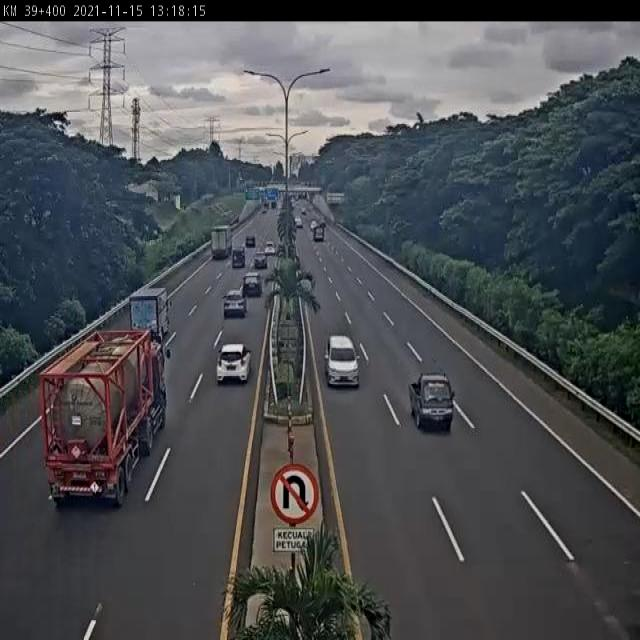Car: (408, 372, 454, 430), (324, 334, 361, 388), (216, 342, 252, 385), (223, 290, 247, 318), (243, 272, 262, 296), (268, 278, 282, 302), (312, 222, 326, 242), (254, 252, 268, 269), (277, 197, 286, 212), (246, 235, 256, 248), (230, 214, 240, 226), (294, 217, 302, 229), (310, 220, 318, 232), (288, 193, 296, 203), (330, 197, 341, 204), (307, 193, 315, 202), (257, 197, 264, 207), (311, 190, 320, 197), (302, 196, 308, 206), (319, 218, 325, 227), (263, 202, 269, 210), (301, 192, 307, 200), (271, 201, 276, 209), (301, 209, 307, 215), (286, 192, 291, 199)
Truck: (41, 323, 166, 507), (130, 287, 172, 346), (210, 226, 232, 260)
